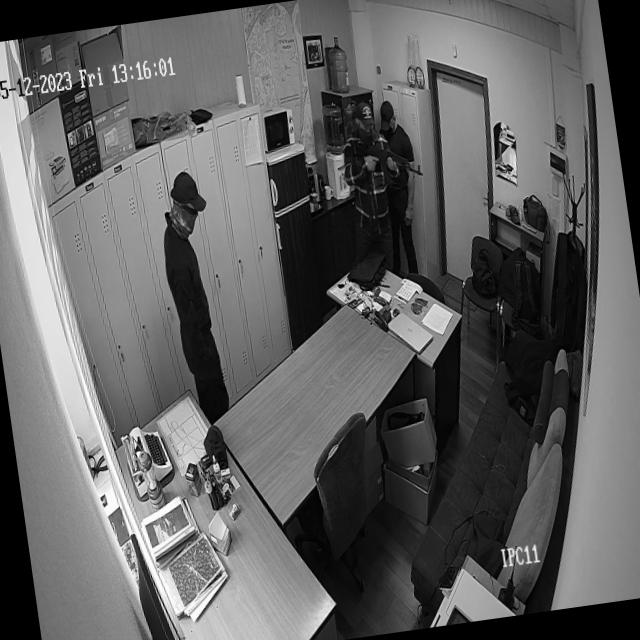gun: (355, 130, 425, 197)
person: (150, 164, 235, 403), (371, 94, 430, 274)
person with a gun: (336, 96, 432, 250)
